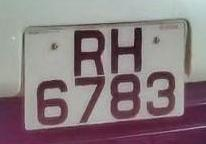3: (142, 69, 178, 120)
6: (31, 74, 72, 130)
7: (71, 71, 111, 128)
8: (106, 70, 145, 123)
H: (103, 20, 148, 78)
R: (65, 24, 111, 81)
